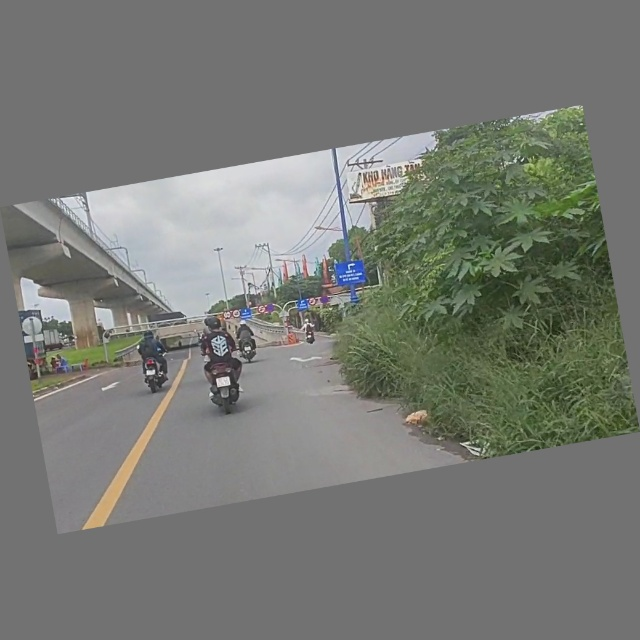P.107: (256, 304, 267, 315), (307, 297, 318, 307)
P.117*: (223, 311, 232, 320)
P.127*40: (231, 310, 241, 320)
P.130: (319, 296, 330, 306), (267, 304, 276, 314)
